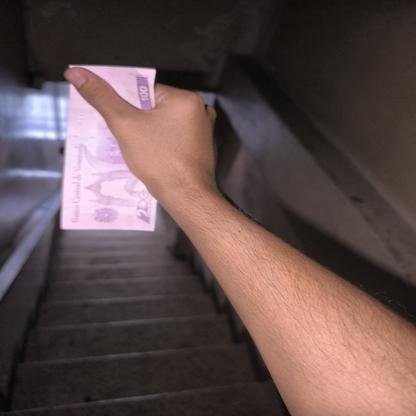one_hundred-back-vef: (60, 64, 158, 231)
